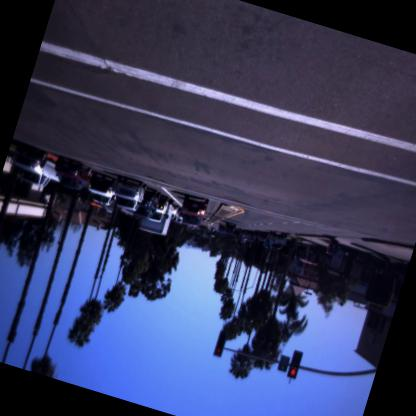trafficlight: (284, 344, 309, 382)
